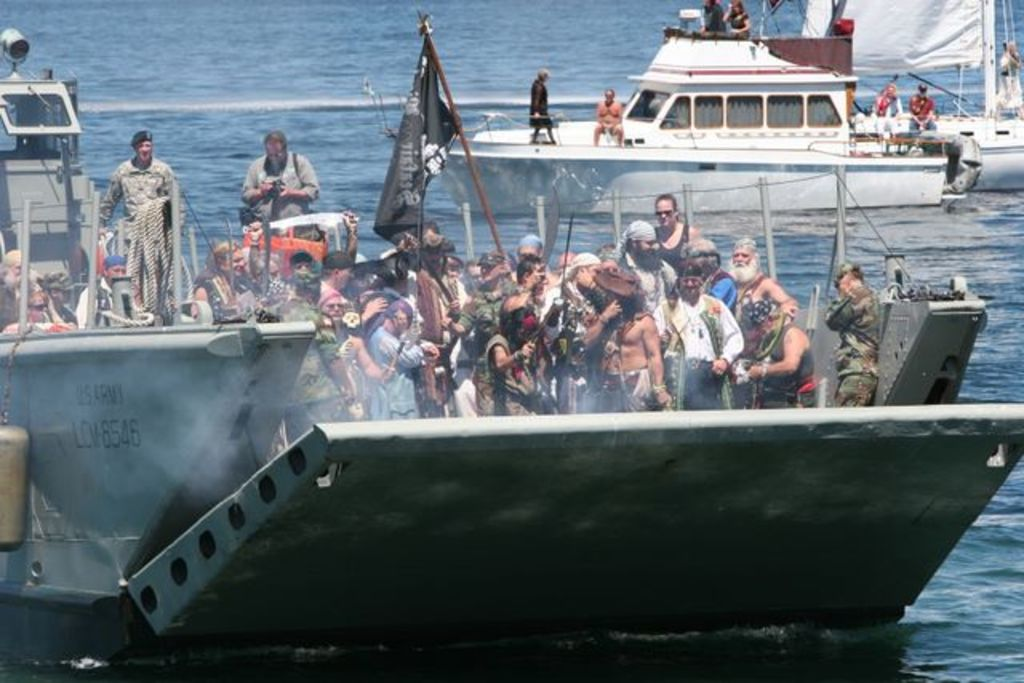boat: (1, 26, 1024, 659), (401, 1, 966, 221)
